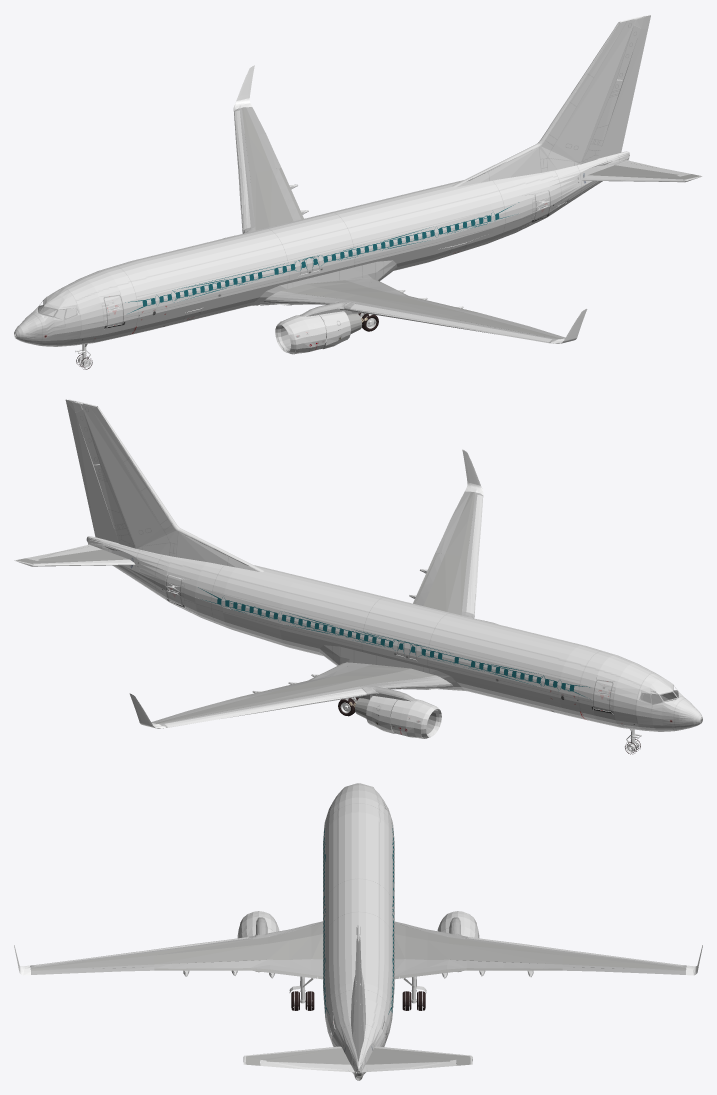
Rendered from B737.flightgear.glb.
3 views of the same model, one above another, from view 1: azimuth 30°, elevation 25°; view 2: azimuth 150°, elevation 25°; view 3: azimuth 270°, elevation 25° (orthographic). The views are drawn at different scales.
Visible parts, largest first — view 1: B737.flightgear.source - FlightGear GPLv2; view 2: B737.flightgear.source - FlightGear GPLv2; view 3: B737.flightgear.source - FlightGear GPLv2.
Part boxes in pixels (x1,y1,x2,y2): B737.flightgear.source - FlightGear GPLv2: (14,15,702,369); B737.flightgear.source - FlightGear GPLv2: (14,399,702,754); B737.flightgear.source - FlightGear GPLv2: (14,783,702,1080).
Size of the model in its own units: 39.41 by 12.93 by 35.68.
Materials: 59 (18 with a texture image).
